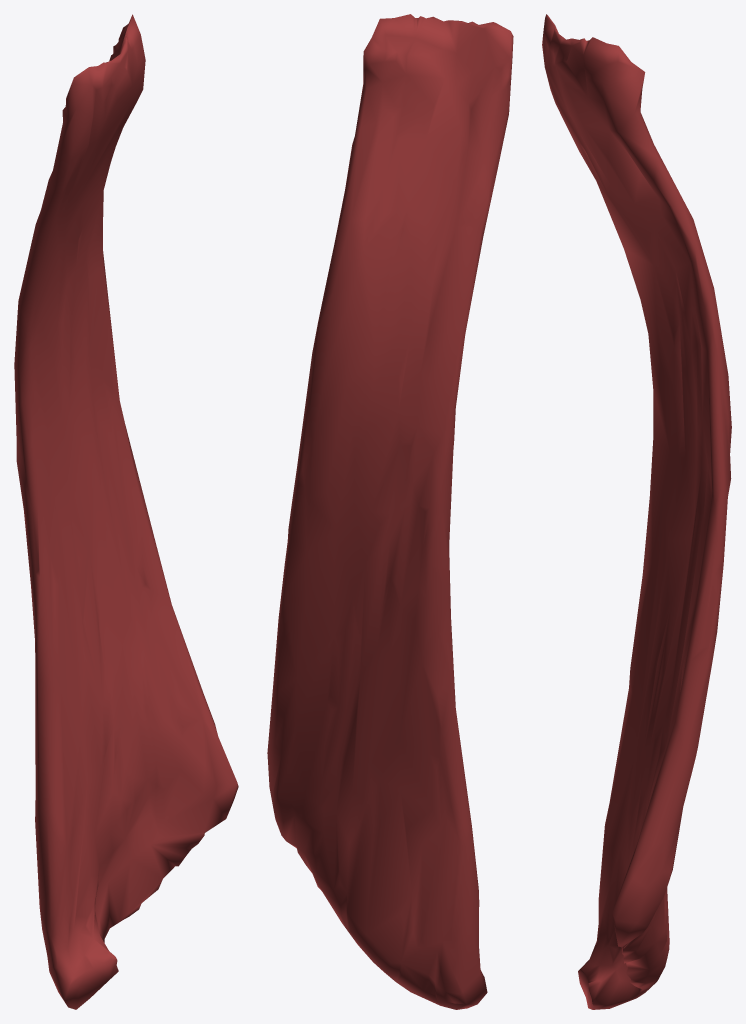
File: sternohyoid-muscle-l.glb
The picture shows the model from 3 angles, left to right: view 1: azimuth 30°, elevation 25°; view 2: azimuth 150°, elevation 25°; view 3: azimuth 270°, elevation 25°; orthographic projection. The views are drawn at different scales.
Visible parts, largest first — view 1: Sternohyoid muscle.l; view 2: Sternohyoid muscle.l; view 3: Sternohyoid muscle.l.
Boxes of the visible parts, left/top/right/bottom form: Sternohyoid muscle.l: left=14, top=14, right=238, bottom=1009; Sternohyoid muscle.l: left=267, top=14, right=513, bottom=1009; Sternohyoid muscle.l: left=542, top=14, right=731, bottom=1009.
Size of the model in its own units: 0.0238 by 0.1081 by 0.0186.
